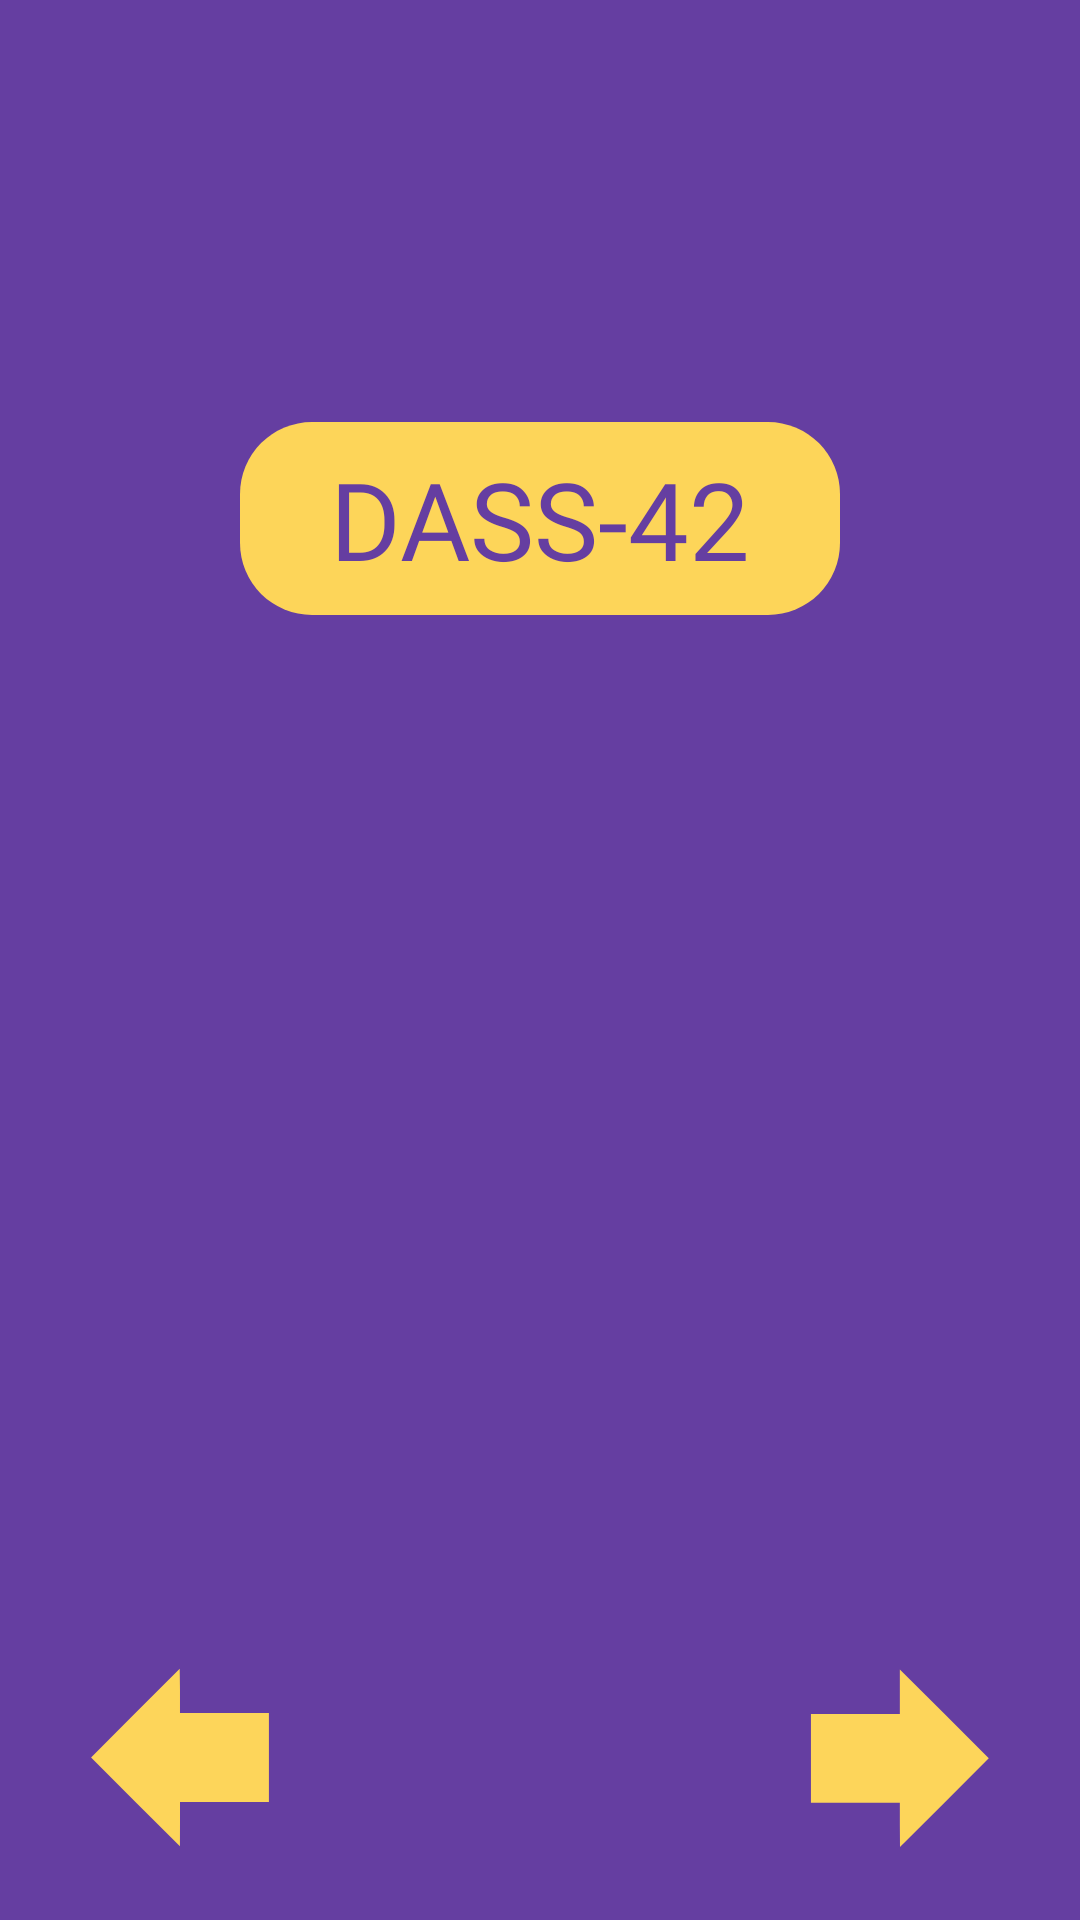

Point at icon controls on the screen. Image size 1080px x 1920px, points as [x,y].
Icon halaman sebelumnya: [180,1757]
Icon halaman selanjutnya: [900,1758]
